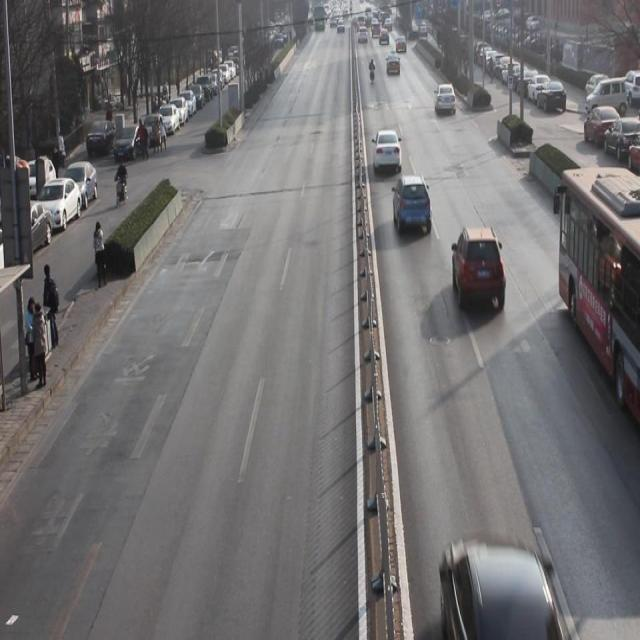car: (443, 532, 568, 640), (450, 228, 508, 312), (392, 178, 433, 242), (373, 127, 404, 175), (435, 84, 458, 119), (386, 52, 401, 77)
van: (556, 166, 640, 415)
